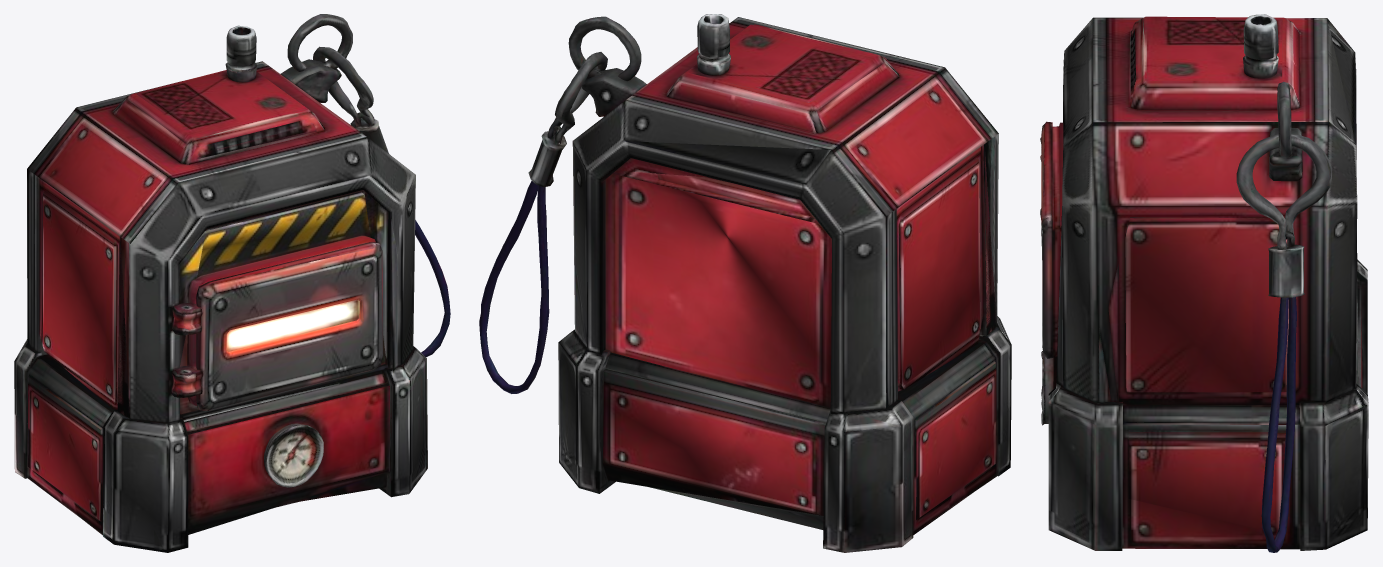
Rendered from kiln.glb.
The picture shows the model from 3 angles, left to right: view 1: azimuth 30°, elevation 25°; view 2: azimuth 150°, elevation 25°; view 3: azimuth 270°, elevation 25°; orthographic projection. The views are drawn at different scales.
Size of the model in its own units: 1 by 0.9668 by 0.6133.
Materials: 1 (1 with a texture image).
